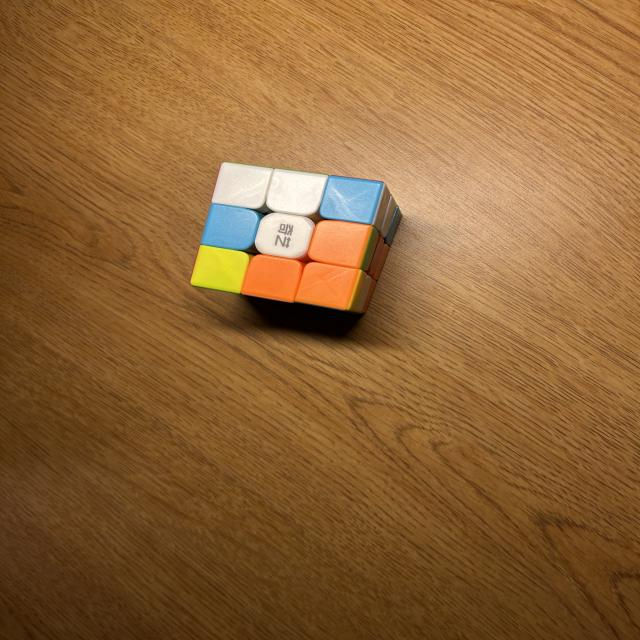Rubiks Cube: (188, 162, 404, 312)
